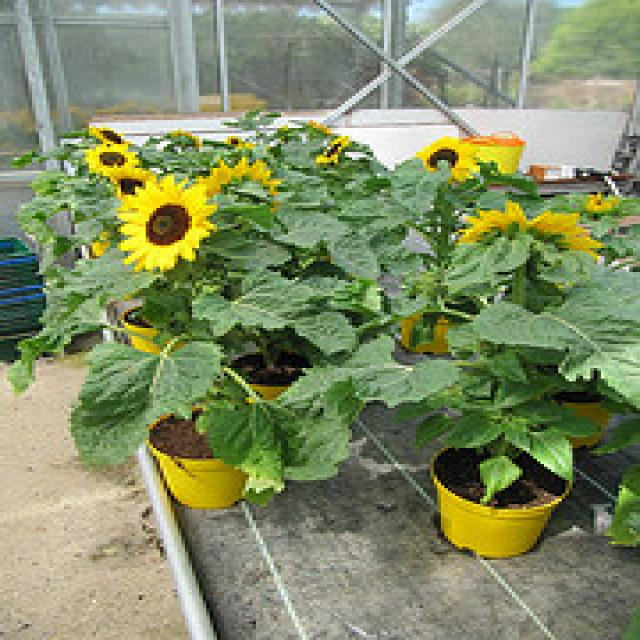sunflower: (116, 173, 213, 276), (461, 207, 600, 266), (207, 159, 279, 202), (416, 138, 476, 174), (80, 142, 145, 172)
